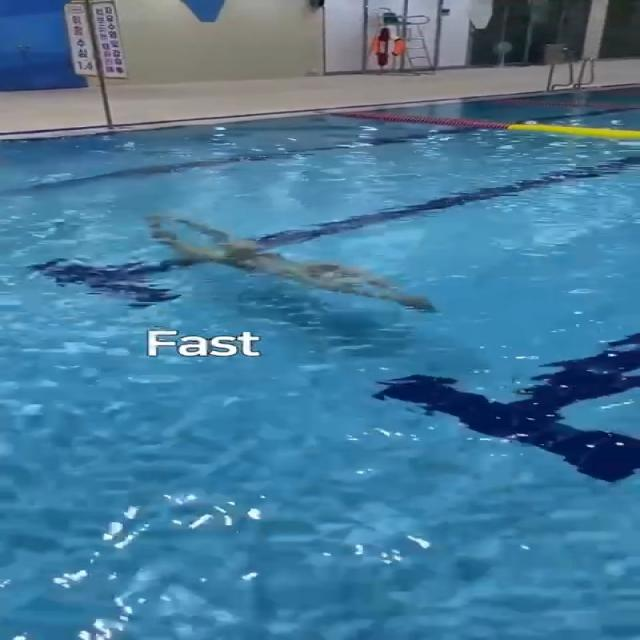Swimming: (113, 201, 454, 318)
